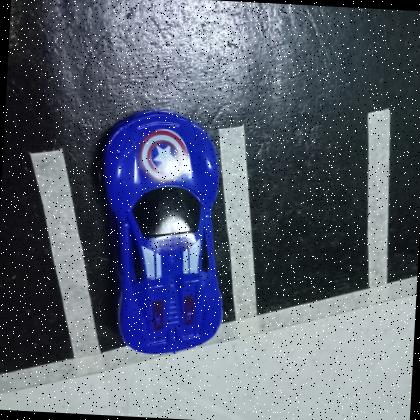Car: (96, 107, 223, 353)
